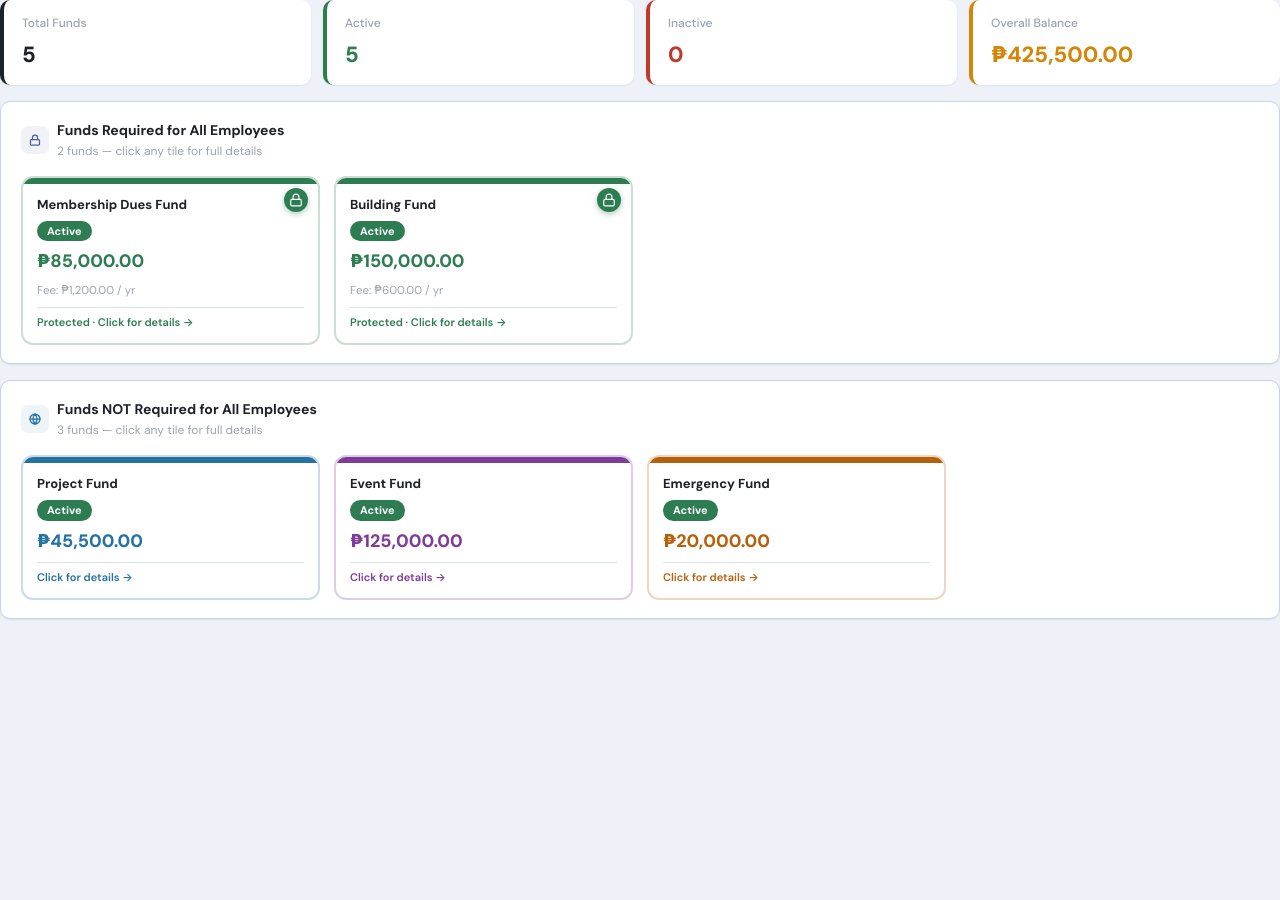
FundReport › clicking a tile opens its detail with the contribution header; Close hides it
Step 1. Click the text "Membership Dues Fund" → (112, 204), box [37, 196, 187, 213]
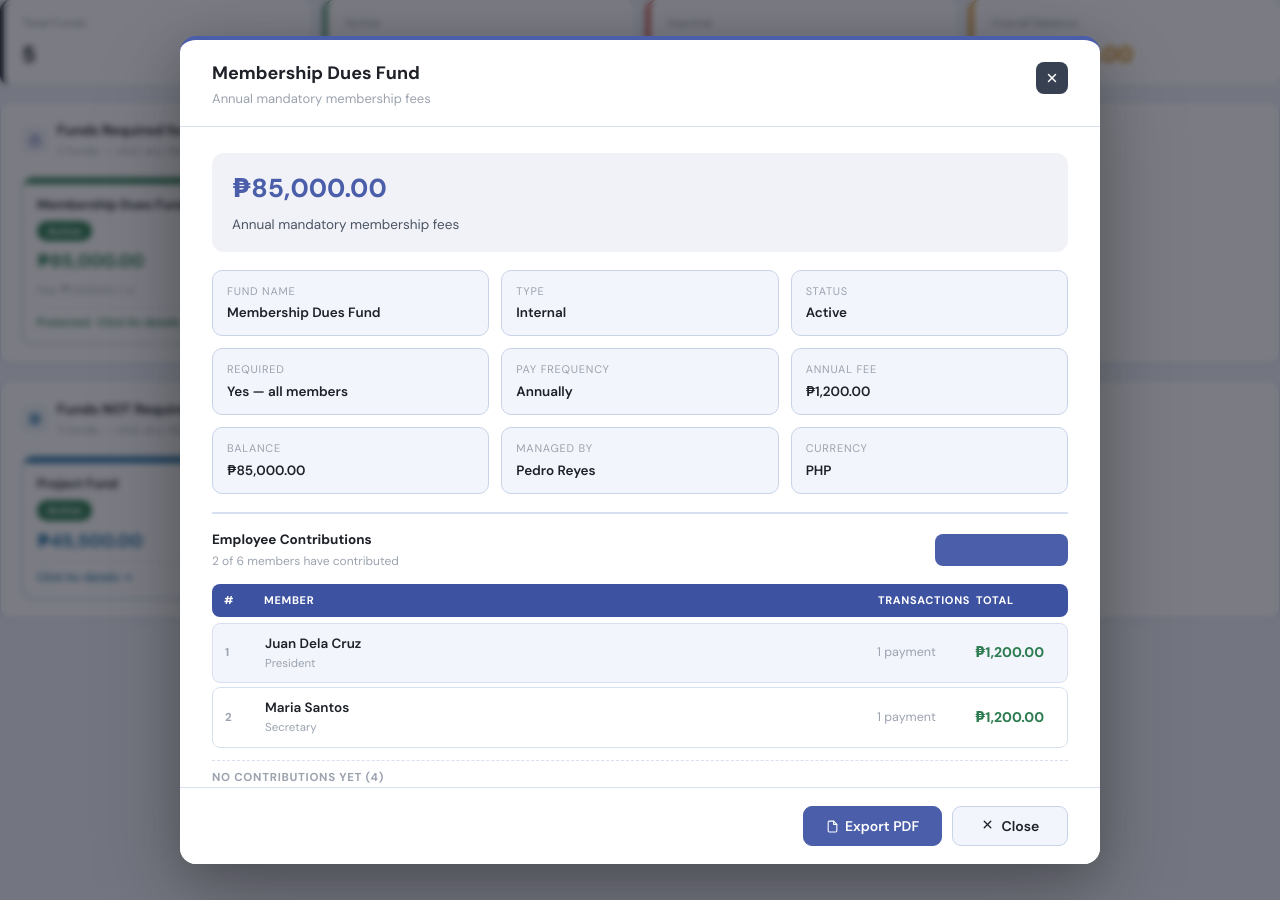
Expected: the text "Employee Contributions" is shown, [212, 530, 399, 550]
Expected: the text "have contributed" is shown, [244, 553, 399, 569]
Step 2. Click the button "Close" → (1010, 826), box [952, 806, 1068, 846]
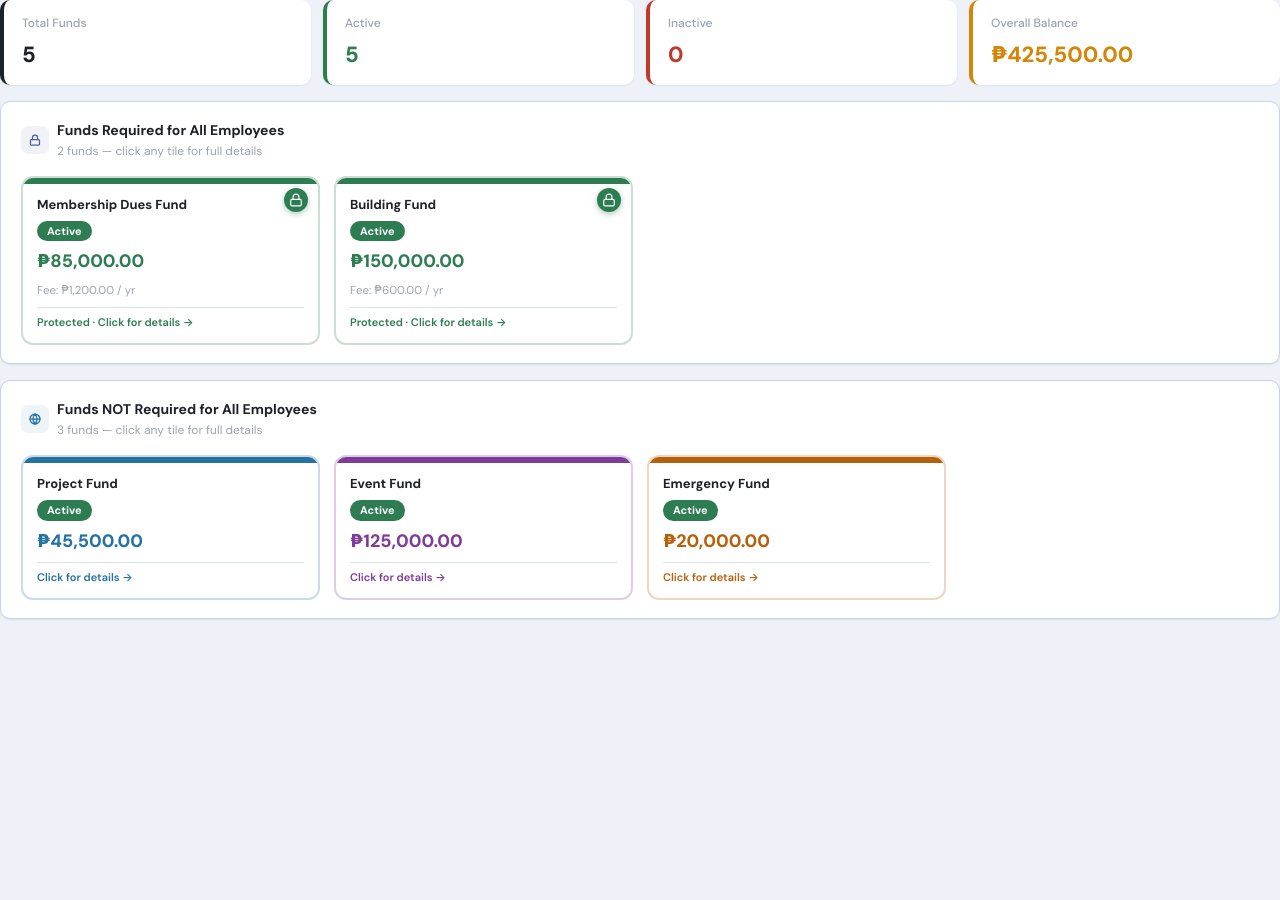
Expected: the text "have contributed" is gone
